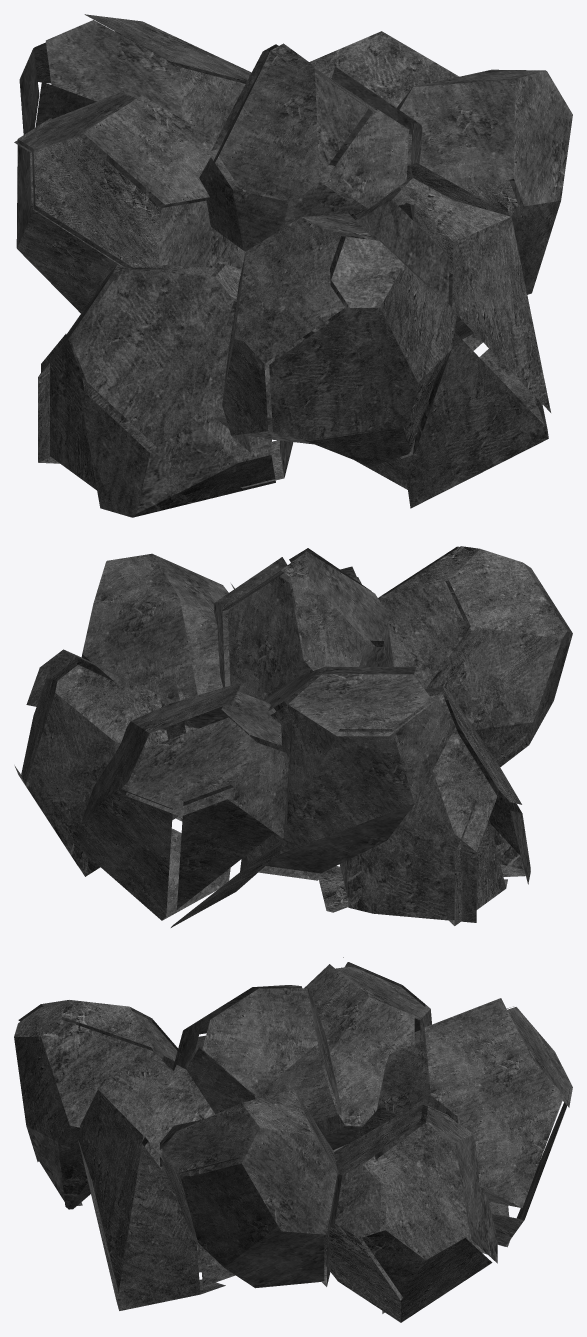
File: Stone8.obj
3 views of the same model, one above another, from view 1: azimuth 30°, elevation 25°; view 2: azimuth 150°, elevation 25°; view 3: azimuth 270°, elevation 25° (orthographic). The views are drawn at different scales.
Visible parts, largest first — view 1: Object015; view 2: Object015; view 3: Object015.
Boxes of the visible parts, x1=… form: Object015: x1=14, y1=14, x2=572, y2=517; Object015: x1=14, y1=546, x2=572, y2=927; Object015: x1=14, y1=957, x2=572, y2=1322.
Size of the model in its own units: 176 by 130 by 221.
Materials: 1 (1 with a texture image).
